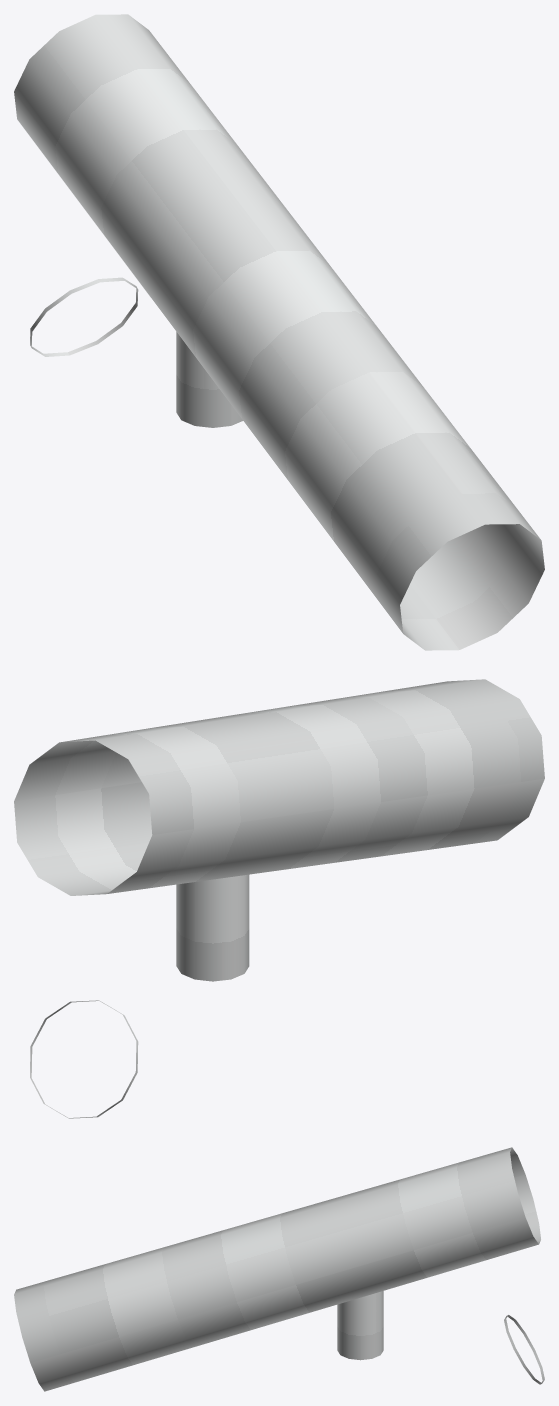
File: luminairearm_truss12ftstraight_c4.obj
3 views of the same model, one above another, from view 1: azimuth 30°, elevation 25°; view 2: azimuth 150°, elevation 25°; view 3: azimuth 270°, elevation 25° (orthographic). The views are drawn at different scales.
Visible parts, largest first — view 1: luminairearm_truss12ftstraight_c4; view 2: luminairearm_truss12ftstraight_c4; view 3: luminairearm_truss12ftstraight_c4.
Part boxes in pixels (x1,y1,x2,y2): luminairearm_truss12ftstraight_c4: (14, 14, 544, 650); luminairearm_truss12ftstraight_c4: (14, 679, 544, 1118); luminairearm_truss12ftstraight_c4: (14, 1147, 544, 1391).
Bounding box in the file's own units: 0.215 × 0.5224 × 1.07.
